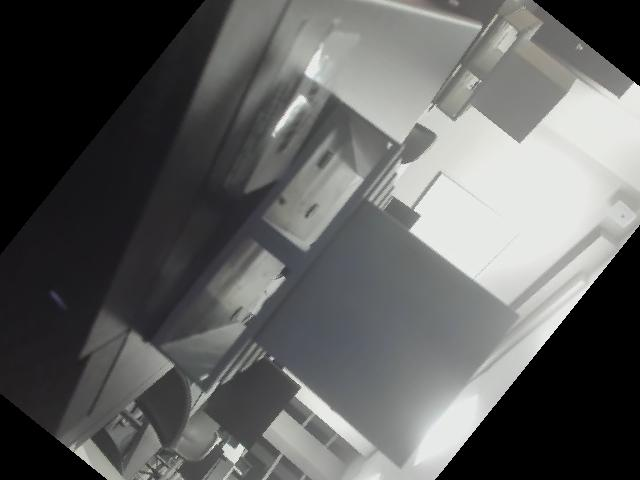grey pallet: (144, 95, 578, 474)
